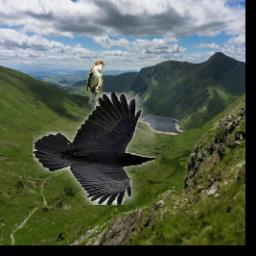Crow: (33, 93, 155, 206)
Sparrow: (87, 61, 105, 108)
